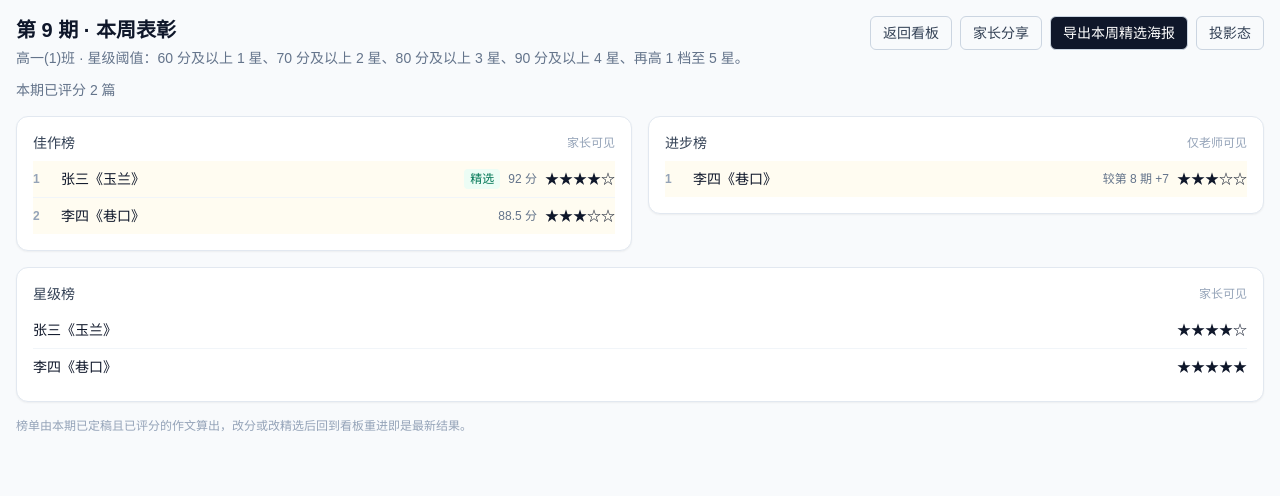
Test: RankingPage（三榜表彰） › 海报导出失败：原地报错但不清空已加载的榜单
Check: the element with test id "board-work" is shown, box [16,116,632,251]
Click the button with test id "ranking-poster". click: (1119, 33)
box: [1050,16,1188,50]
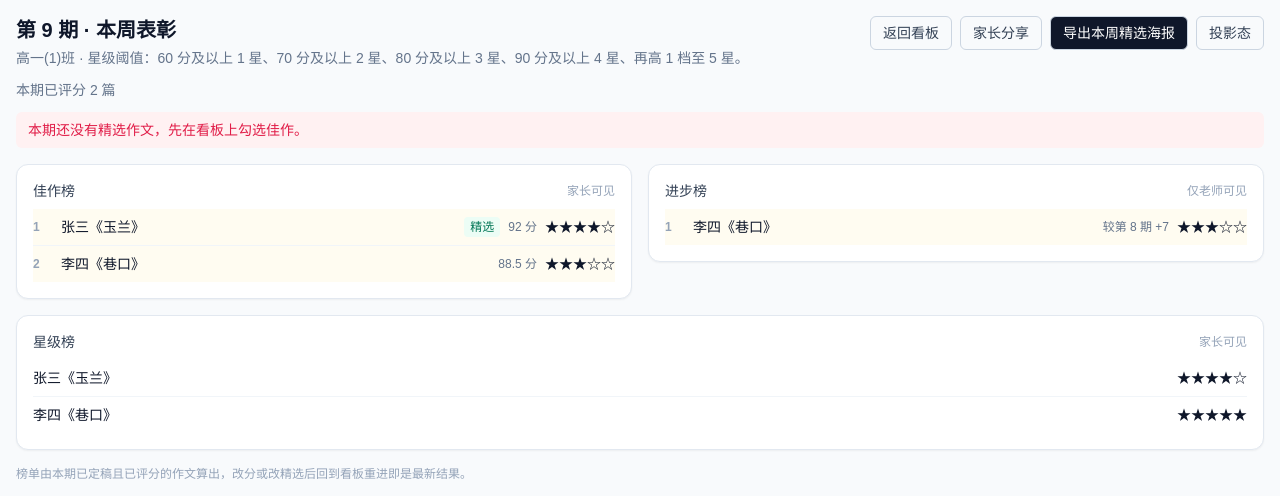
Check: the element with test id "board-work" is shown, box [16,164,632,299]
Check: the text with test id "poster-error" reads "本期还没有精选作文，先在看板上勾选佳作。", box [28,122,308,138]
